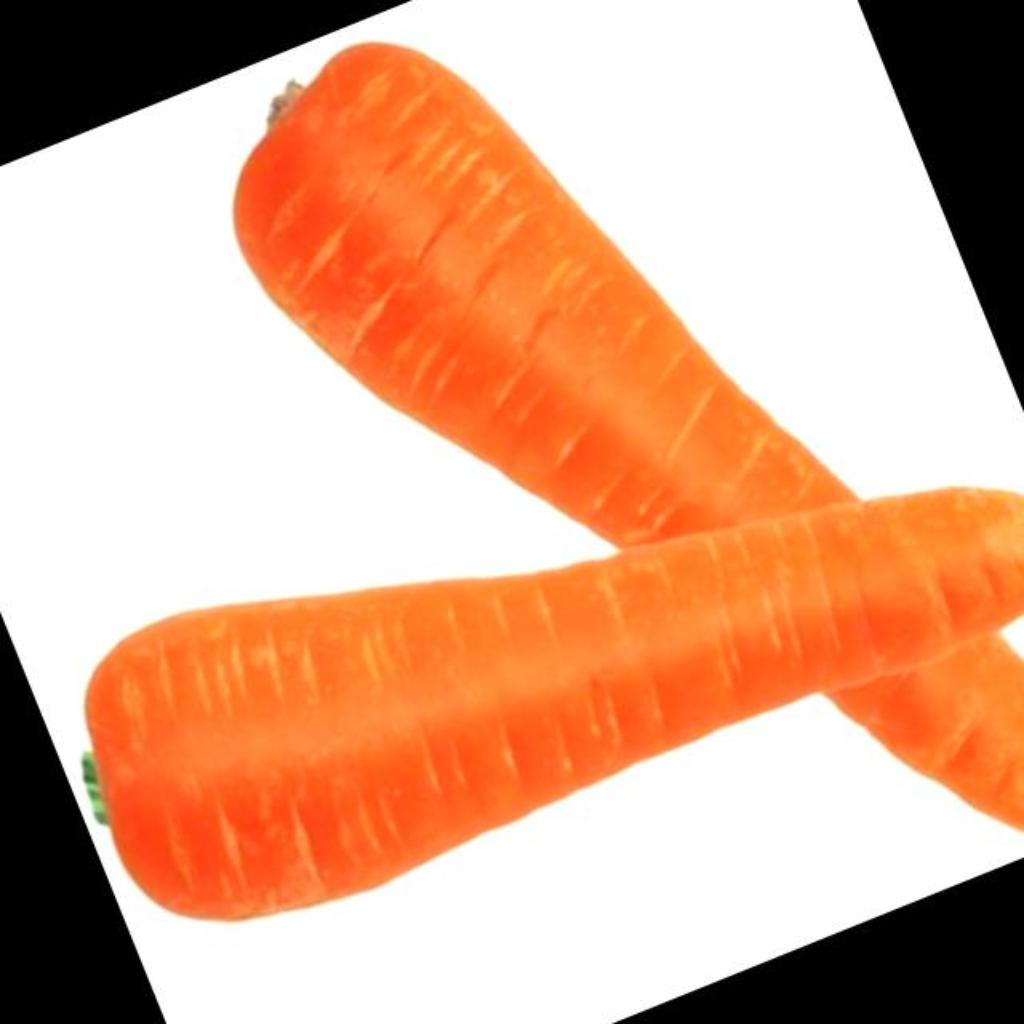carrot: (236, 44, 1024, 835), (86, 490, 1024, 918)
